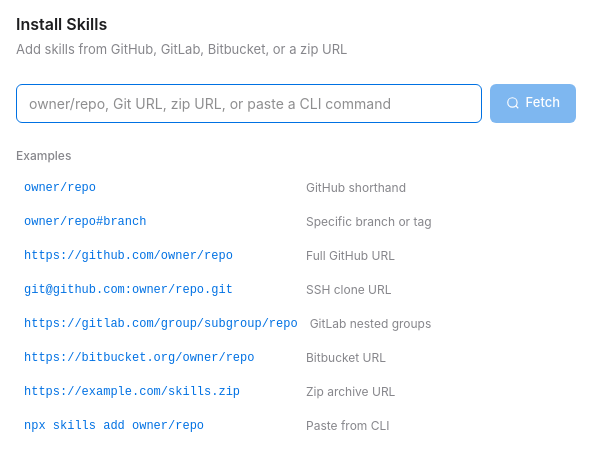
Test case: InstallSkills › example buttons › fills with CLI command example
Step 1. Click the button with class "example" that starts with "npx skills add owner/repo" → [114, 426], box [16,410,576,440]
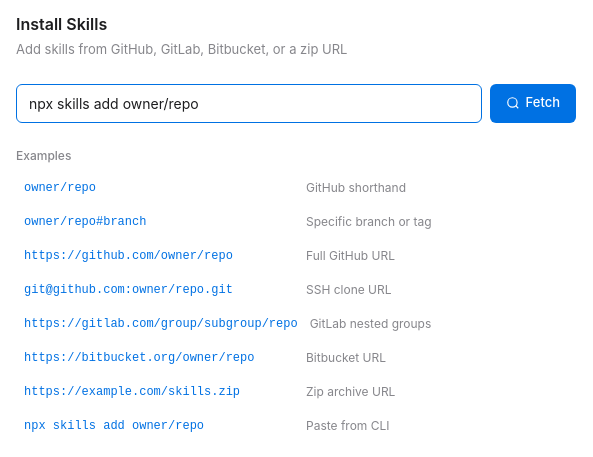
Check: the field holds "npx skills add owner/repo", box [16,84,482,122]
